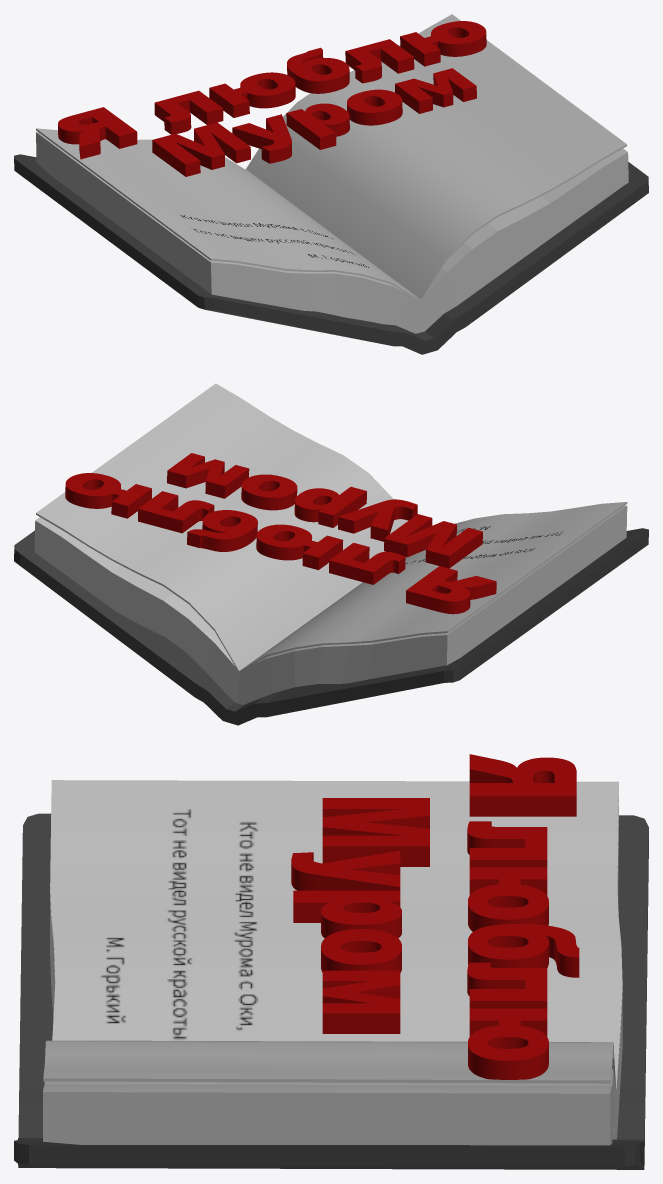
3 views of the same model, one above another, from view 1: azimuth 30°, elevation 25°; view 2: azimuth 150°, elevation 25°; view 3: azimuth 270°, elevation 25° (orthographic). The views are drawn at different scales.
Visible parts, largest first — view 1: книга, Text; view 2: книга, Text; view 3: книга, Text.
Part boxes in pixels (x1=…): книга: x1=14, y1=14, x2=648, y2=354; Text: x1=58, y1=21, x2=486, y2=176; книга: x1=14, y1=383, x2=648, y2=725; Text: x1=65, y1=453, x2=496, y2=614; книга: x1=14, y1=780, x2=648, y2=1169; Text: x1=291, y1=754, x2=579, y2=1079.
Size of the model in its own units: 1.71 by 0.5976 by 1.31.
1 material, 1 textured.
